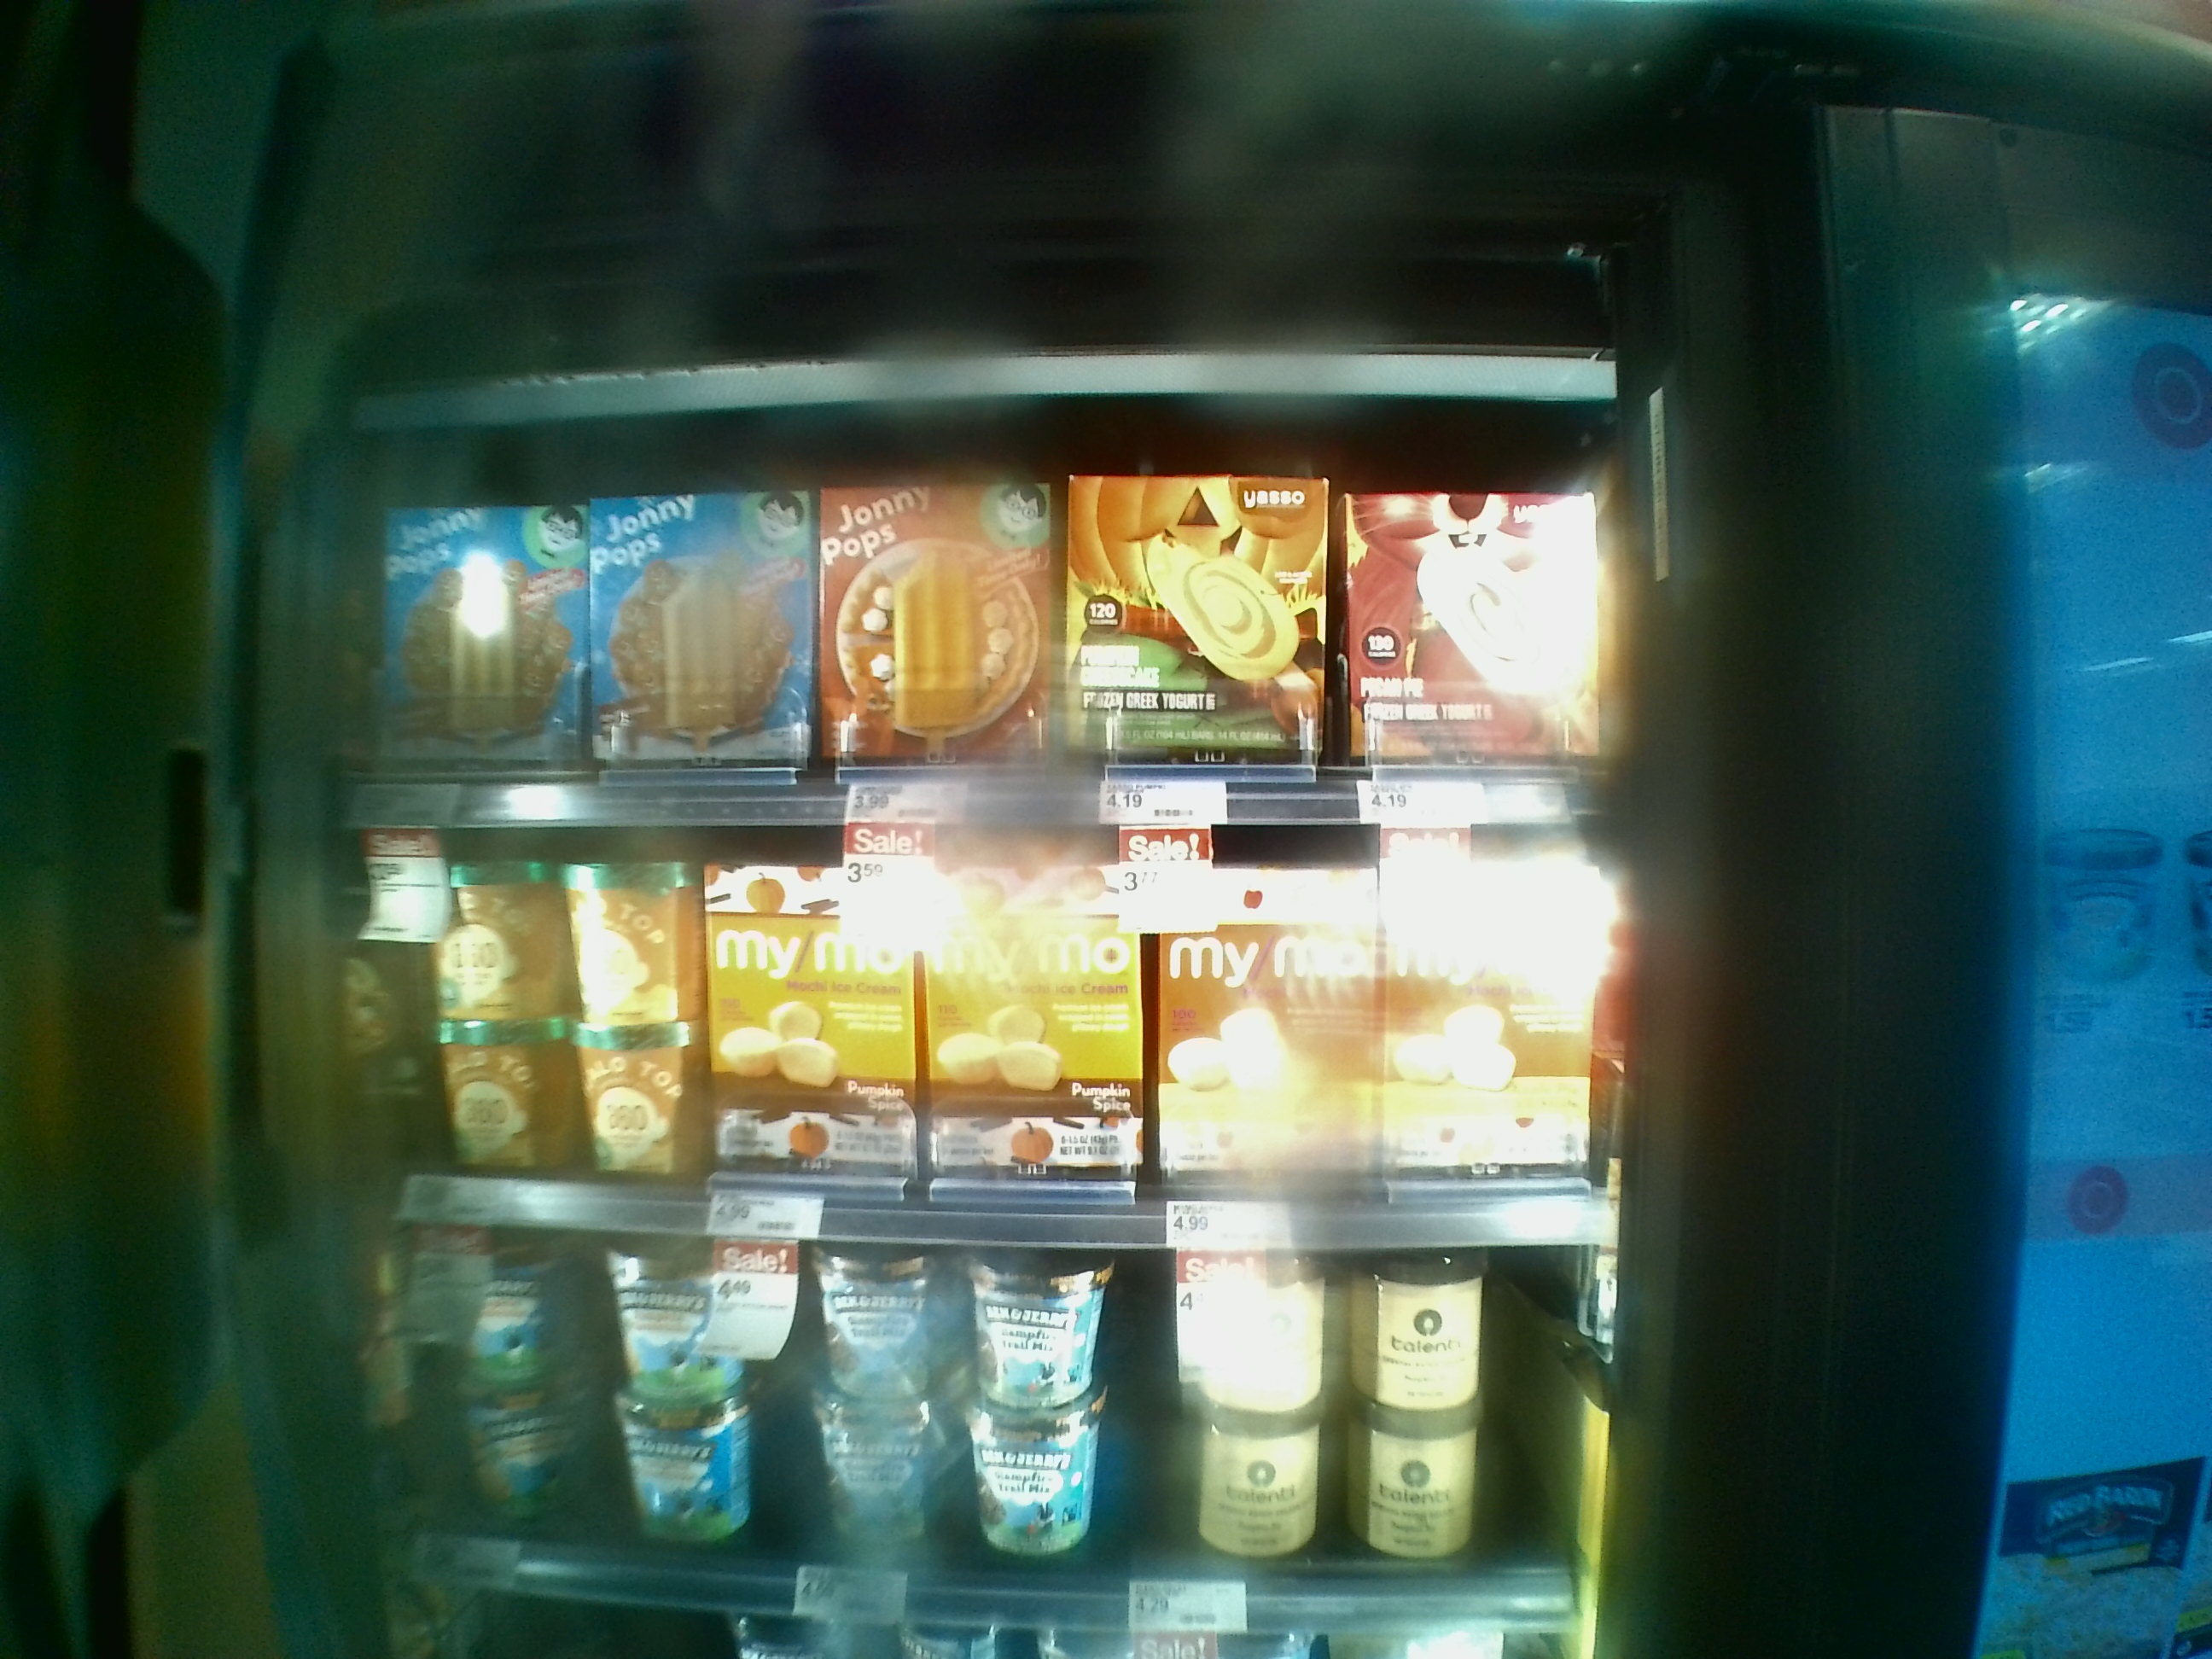shelf: (314, 791, 1644, 1246), (334, 1187, 1615, 1621), (334, 415, 1634, 823)
